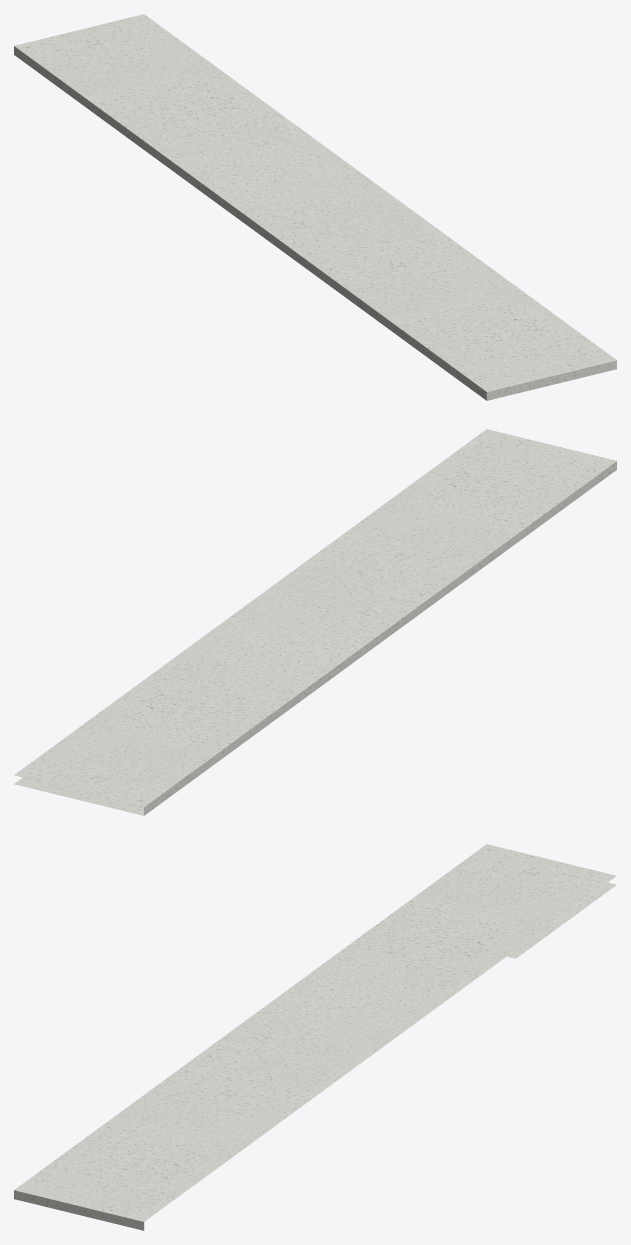
The model's file is Modern_In_SnackCounter.fbx.
3 views of the same model, one above another, from view 1: azimuth 30°, elevation 25°; view 2: azimuth 150°, elevation 25°; view 3: azimuth 330°, elevation 25° (orthographic).
Parts seen in each view (by area): view 1: Modern_In_SnackCounter; view 2: Modern_In_SnackCounter; view 3: Modern_In_SnackCounter.
Boxes of the visible parts, <box> form: Modern_In_SnackCounter: <box>14,14,616,400</box>; Modern_In_SnackCounter: <box>14,429,616,815</box>; Modern_In_SnackCounter: <box>14,844,616,1230</box>.
Bounding box in the file's own units: 74.5 × 5 × 468.
